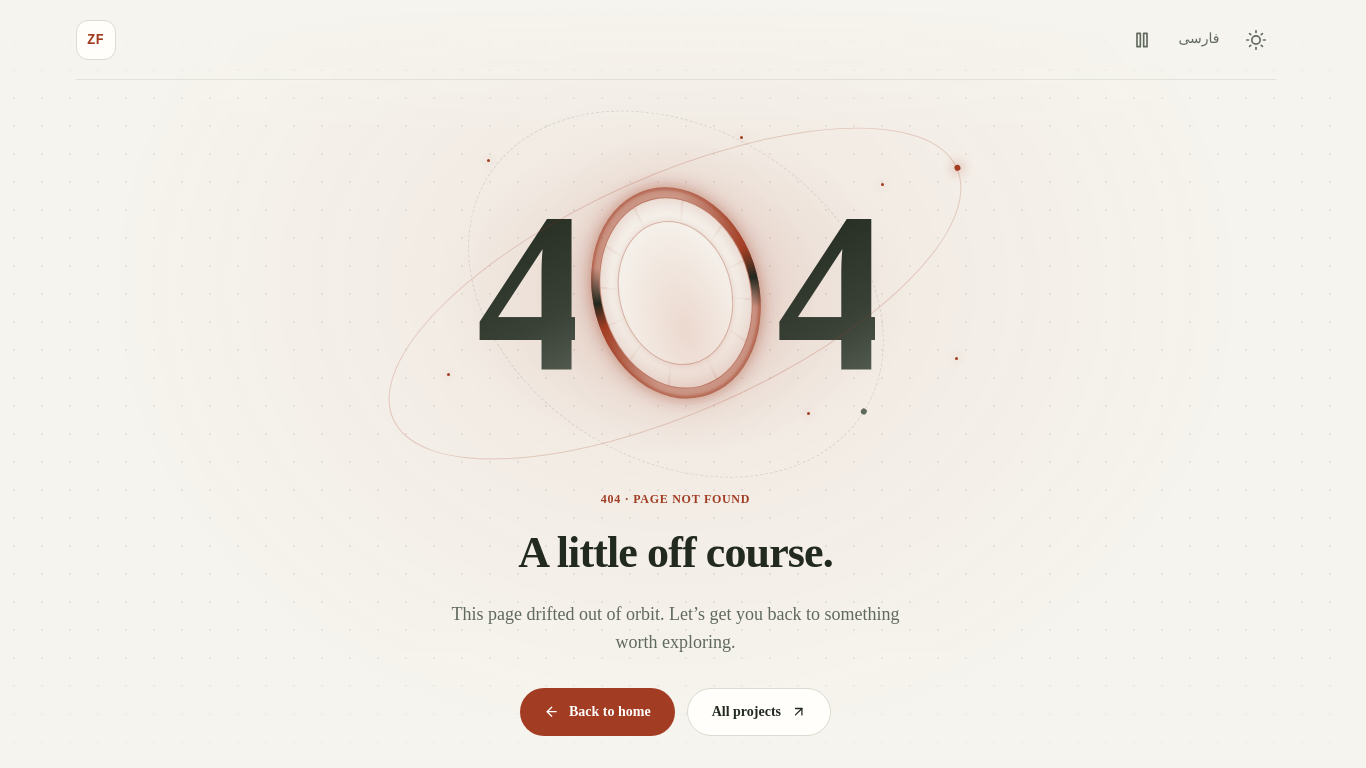
Test case: shared static 404 › lets the visitor pause and resume the illustration
This screenshot has width=1366, height=768.
Step 1. Click the button named "Pause animation" → (1142, 40), box [1122,20,1162,60]
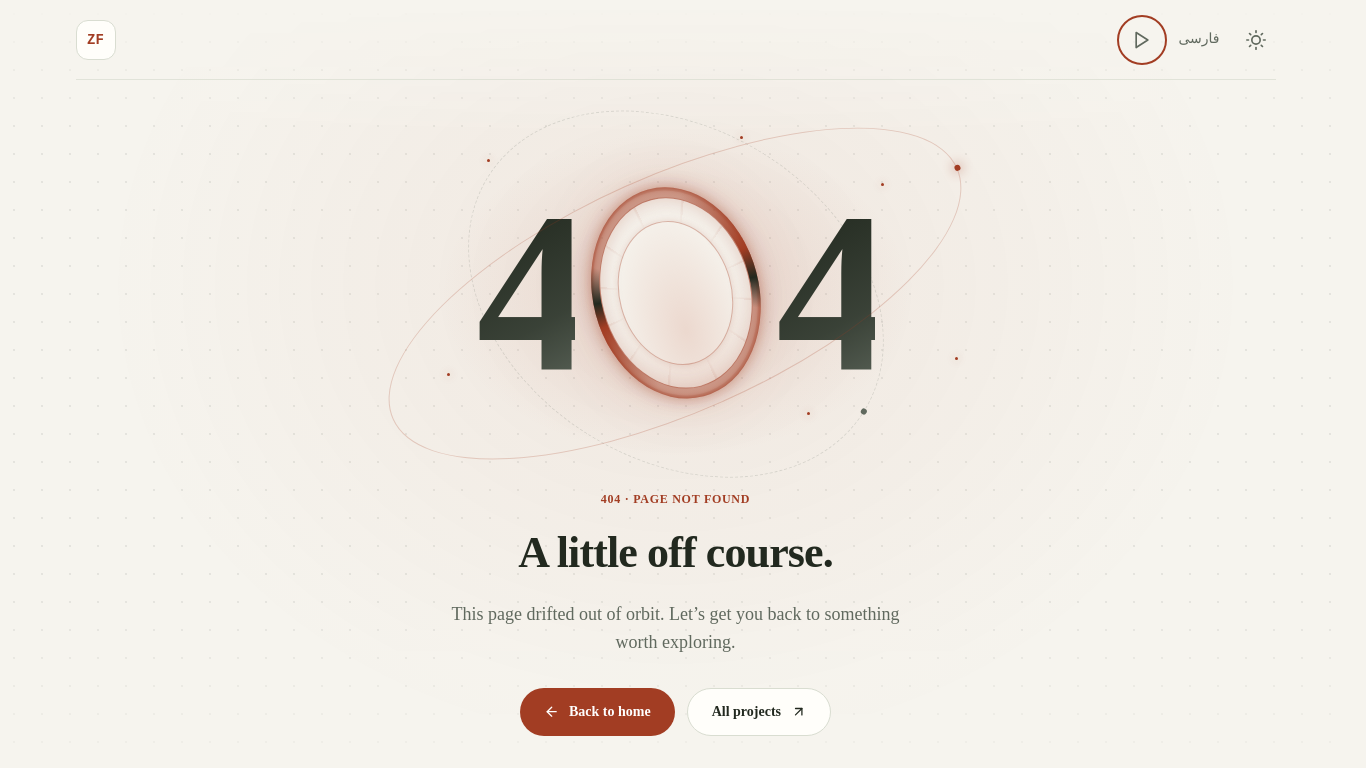
Expected: the element showing "4 4" is shown, [340,96,1012,491]
Result: the button named "Pause animation" is pressed
Step 2. Click the button named "Pause animation" → (1142, 40), box [1122,20,1162,60]
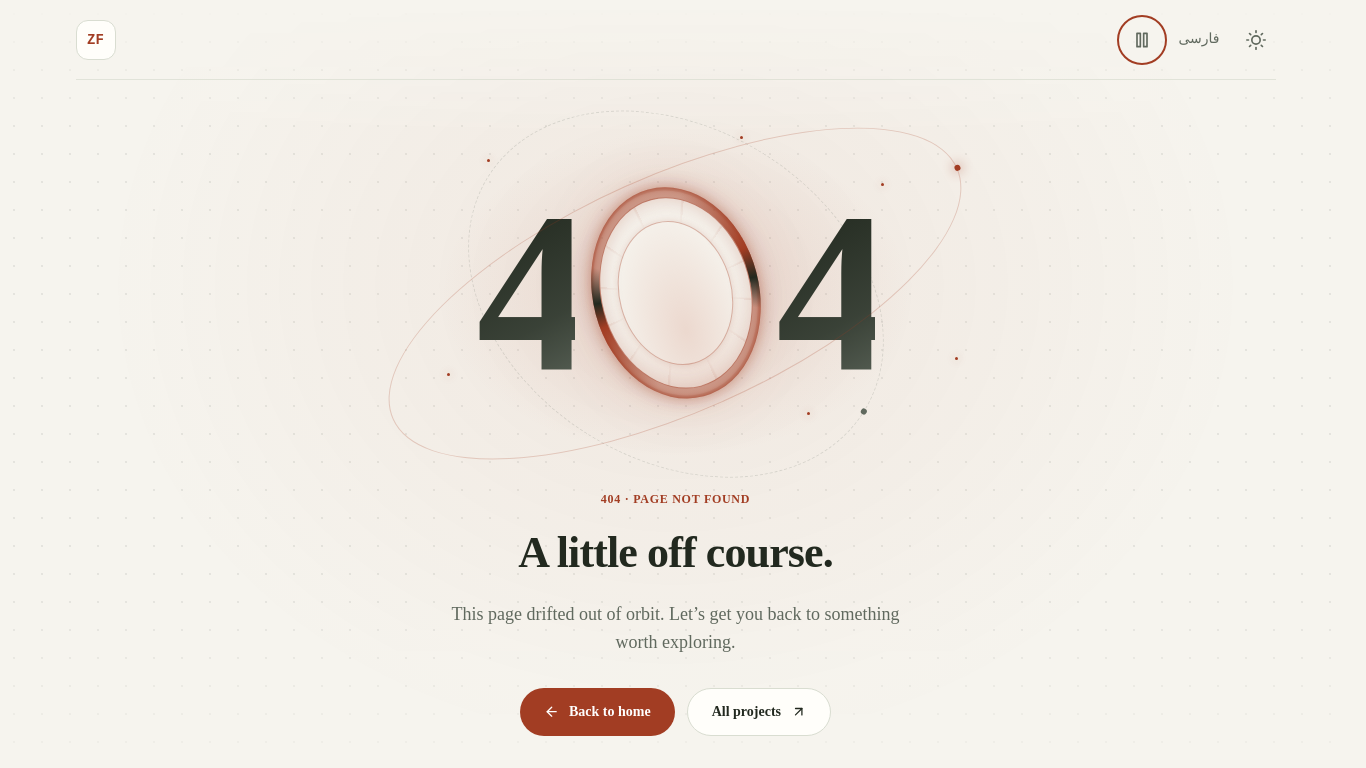
Result: the button named "Pause animation" is not pressed at [1122,20,1162,60]
